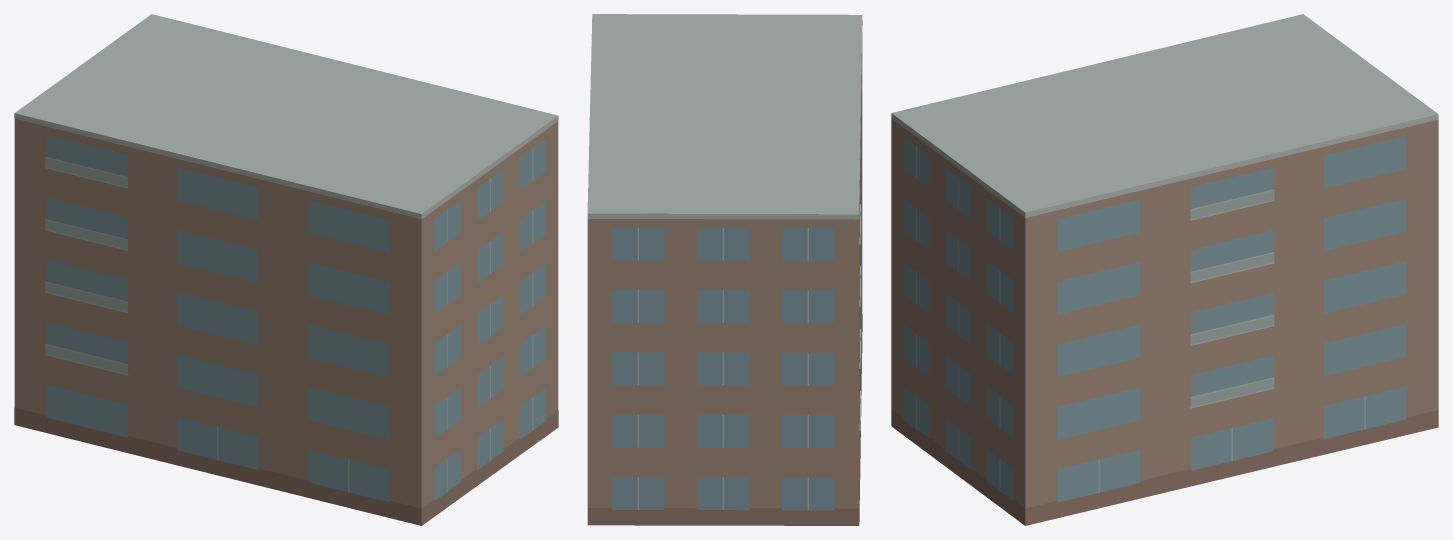
Rendered from survey-upis-32959276.glb.
3 renders of one model, left to right at view 1: azimuth 30°, elevation 25°; view 2: azimuth 150°, elevation 25°; view 3: azimuth 270°, elevation 25°, orthographic.
Visible parts, largest first — view 1: survey-upis-32959276.tmp; view 2: survey-upis-32959276.tmp; view 3: survey-upis-32959276.tmp.
Part boxes in pixels (x1,y1,x2,y2): survey-upis-32959276.tmp: (14,14,558,525); survey-upis-32959276.tmp: (587,14,862,525); survey-upis-32959276.tmp: (891,14,1438,525).
Size of the model in its own units: 19.61 by 14.4 by 22.82.
